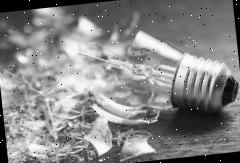lightbulb: (76, 19, 240, 128), (81, 115, 114, 158)
